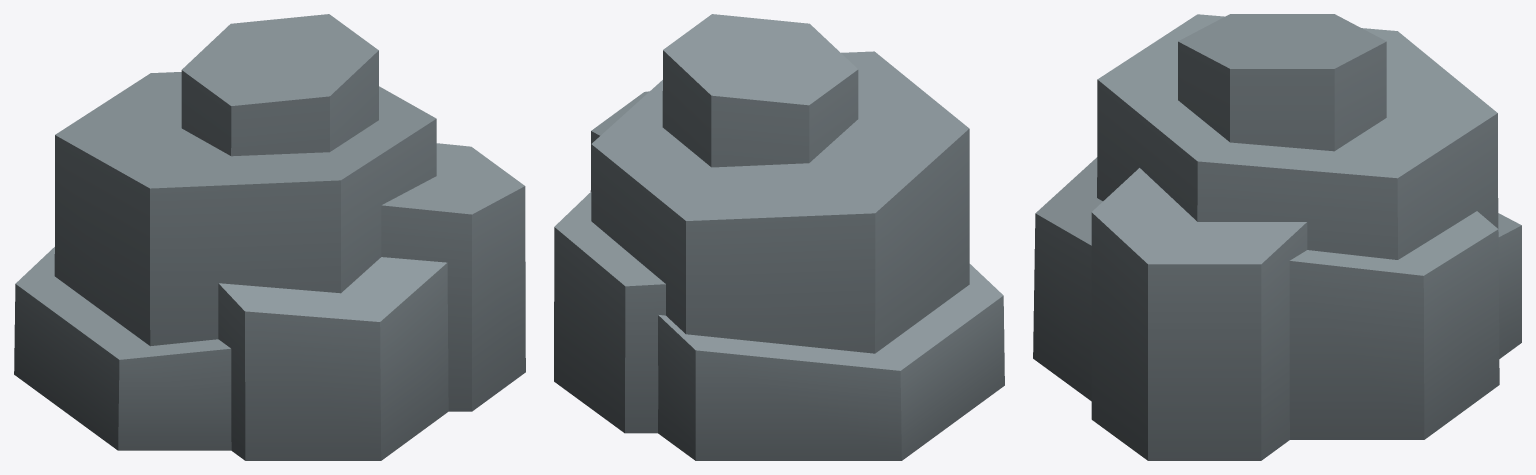
The model's file is mountain_a.glb.
3 views of the same model, side by side, from view 1: azimuth 30°, elevation 25°; view 2: azimuth 150°, elevation 25°; view 3: azimuth 270°, elevation 25° (orthographic). The views are drawn at different scales.
Parts seen in each view (by area): view 1: mountain_A; view 2: mountain_A; view 3: mountain_A.
Part boxes in pixels (left/top/right/bottom): mountain_A: left=14, top=14, right=525, bottom=460; mountain_A: left=554, top=14, right=1004, bottom=460; mountain_A: left=1033, top=14, right=1521, bottom=460.
Bounding box in the file's own units: 1.8 × 1.43 × 1.88.
1 material, 1 textured.
